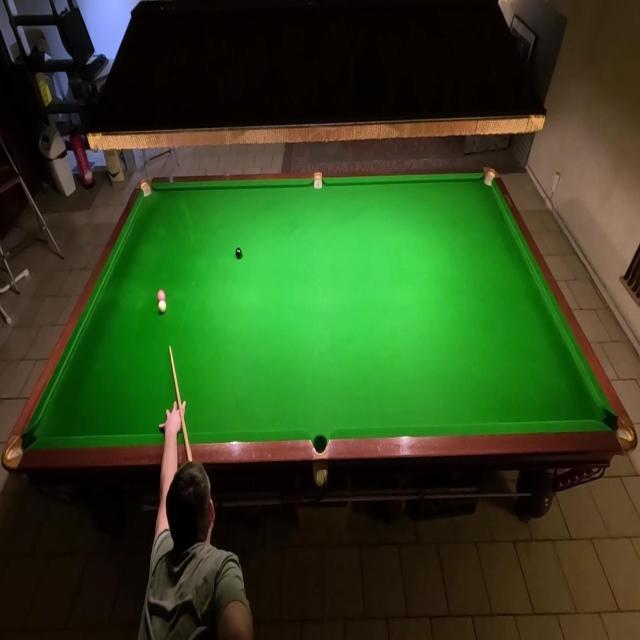Ball: (157, 289, 166, 302), (158, 300, 166, 313), (236, 247, 242, 259)
